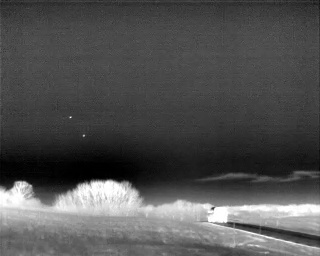BIRD: (81, 132, 87, 140)
